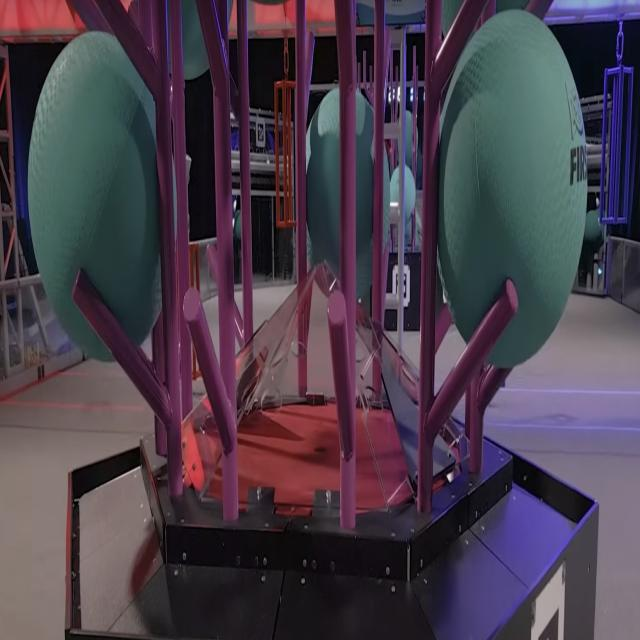Algae: (435, 10, 587, 367), (28, 30, 177, 360), (306, 83, 391, 291), (166, 0, 234, 79), (442, 0, 530, 52), (390, 165, 416, 224), (397, 111, 418, 168)
Reef: (425, 276, 519, 448), (72, 266, 172, 426), (183, 285, 241, 447), (94, 0, 160, 98), (432, 0, 494, 96), (327, 290, 356, 463), (208, 246, 244, 340), (198, 0, 230, 101), (480, 362, 512, 416), (69, 0, 113, 34), (302, 29, 315, 95), (228, 72, 241, 127), (412, 148, 416, 177), (413, 46, 416, 79), (363, 51, 366, 80), (390, 50, 393, 76), (390, 148, 393, 174), (358, 63, 361, 84), (416, 66, 418, 97), (412, 210, 414, 236), (390, 224, 393, 239), (396, 67, 398, 88), (370, 66, 372, 86)
